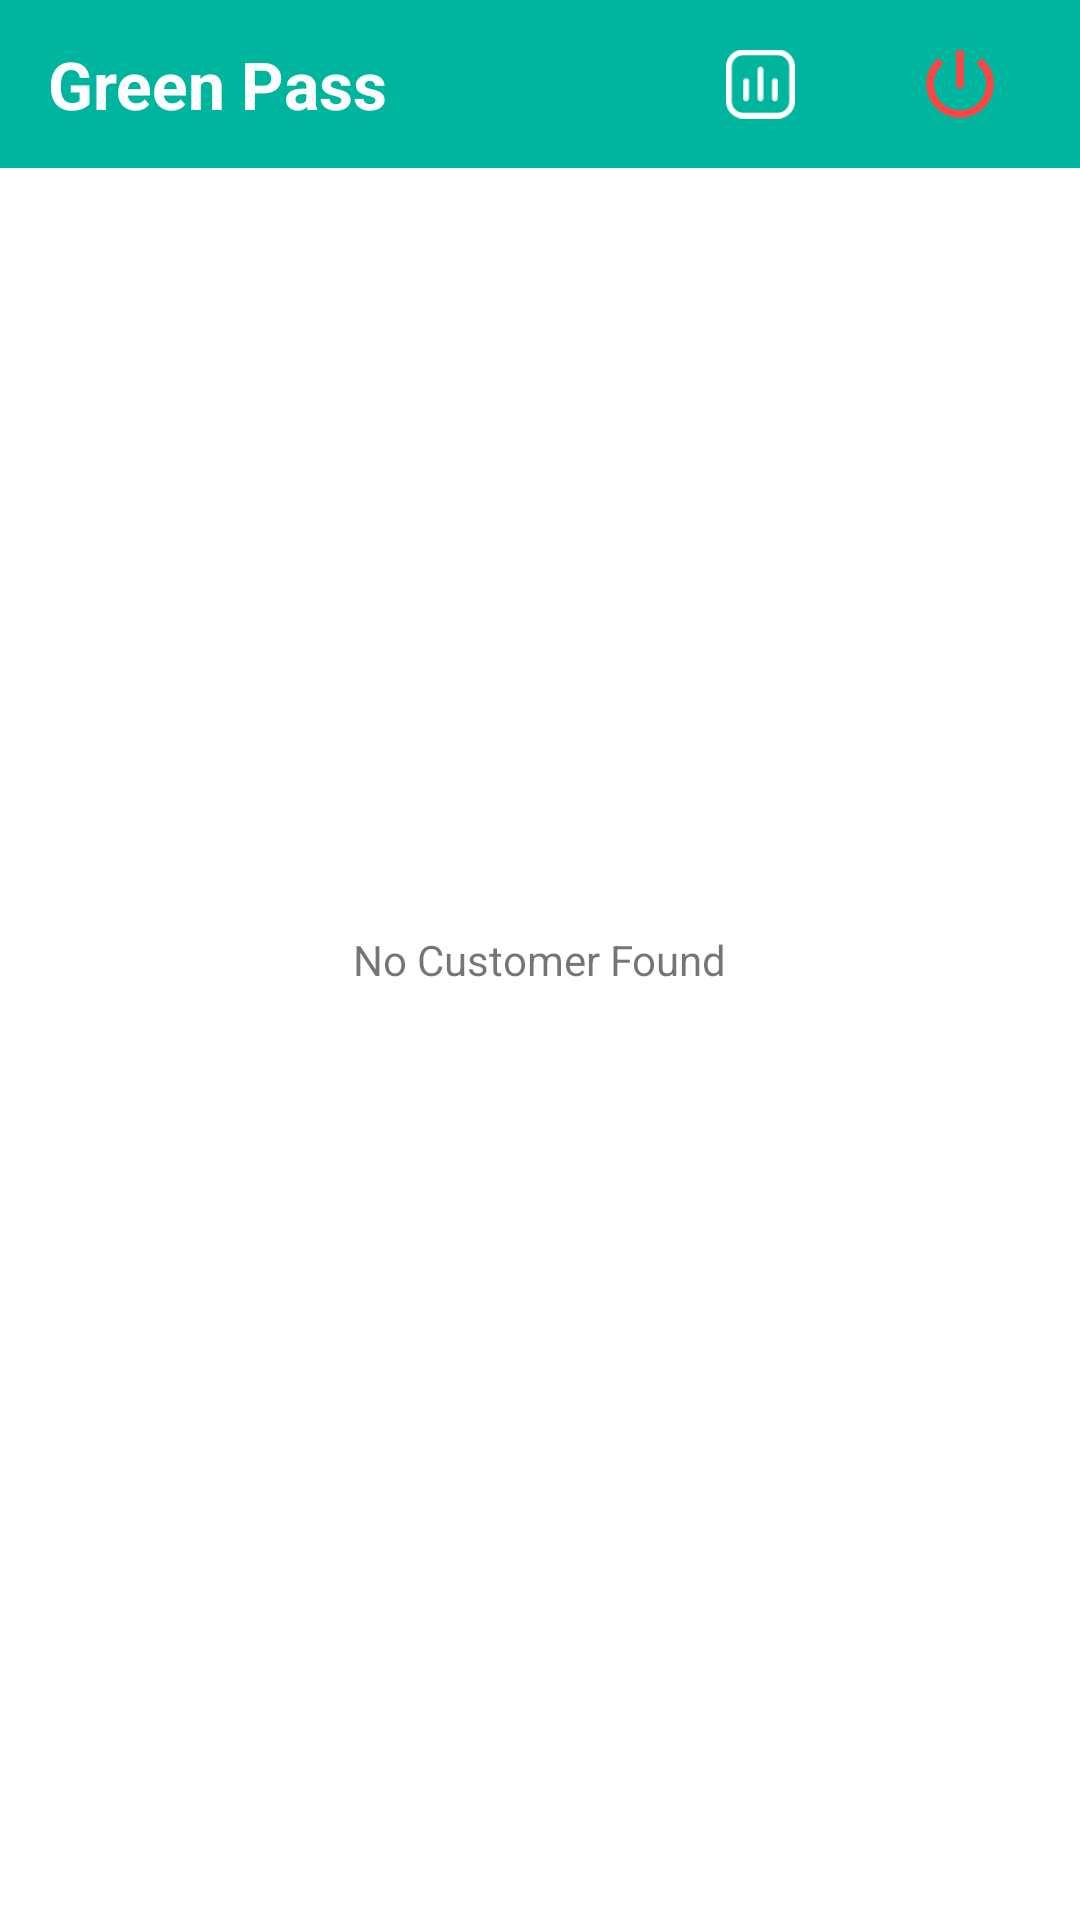

Named icons in this screenshot (1080*1920) and their centers, (x,y):
stats: (760,84)
